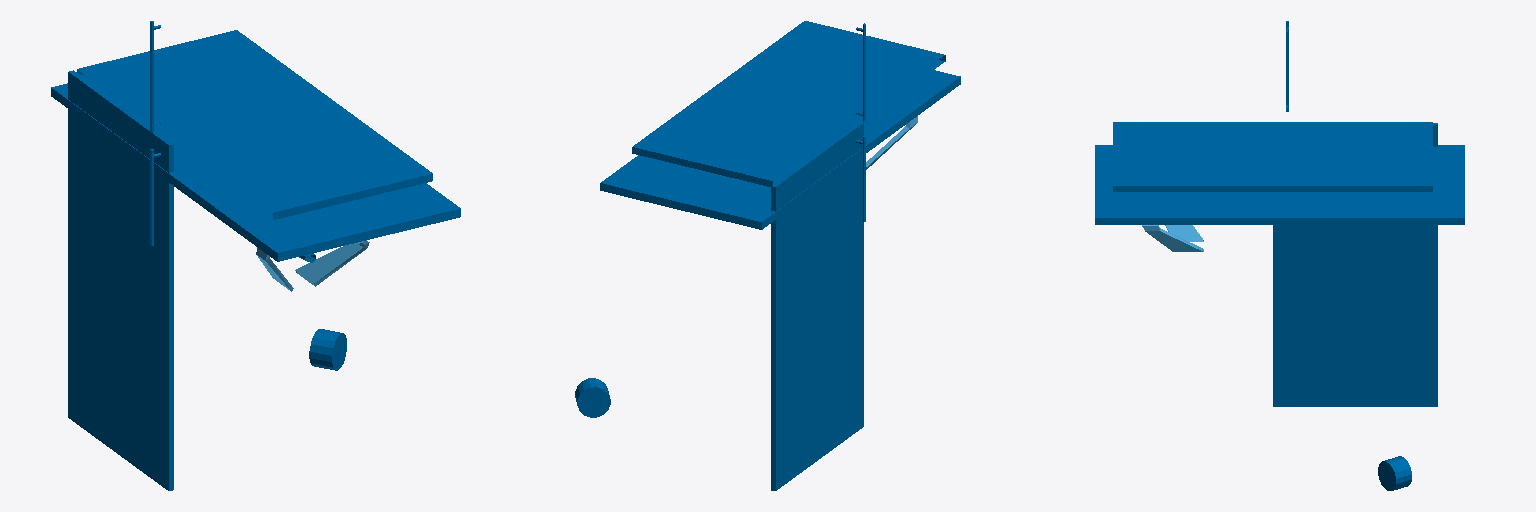
robot.urdf — partnet_49a5c5f524eb73b8391e4d6c585a697a:
<?xml version="1.0" ?>
<robot name="partnet_49a5c5f524eb73b8391e4d6c585a697a">
	<link name="base"/>
	<link name="link_0">
		<visual name="board-15">
			<origin xyz="-0.3058252822582951 -0.18406416344834303 0.2449249999999994"/>
			<geometry>
				<mesh filename="textured_objs/original-18.obj"/>
			</geometry>
		</visual>
		<collision>
			<origin xyz="-0.3058252822582951 -0.18406416344834303 0.2449249999999994"/>
			<geometry>
				<mesh filename="textured_objs/original-18.obj"/>
			</geometry>
		</collision>
	</link>
	<joint name="joint_0" type="revolute">
		<origin xyz="0.3058252822582951 0.18406416344834303 -0.2449249999999994"/>
		<axis xyz="0 0 1"/>
		<child link="link_0"/>
		<parent link="link_3"/>
		<limit lower="0.0" upper="1.5707963267948966"/>
	</joint>
	<link name="link_1">
		<visual name="board-16">
			<origin xyz="0.4127133230581761 -0.16536374127677872 0.2449249999999994"/>
			<geometry>
				<mesh filename="textured_objs/original-19.obj"/>
			</geometry>
		</visual>
		<collision>
			<origin xyz="0.4127133230581761 -0.16536374127677872 0.2449249999999994"/>
			<geometry>
				<mesh filename="textured_objs/original-19.obj"/>
			</geometry>
		</collision>
	</link>
	<joint name="joint_1" type="revolute">
		<origin xyz="-0.4127133230581761 0.16536374127677872 -0.2449249999999994"/>
		<axis xyz="0 0 -1"/>
		<child link="link_1"/>
		<parent link="link_3"/>
		<limit lower="-0.0" upper="1.5707963267948966"/>
	</joint>
	<link name="link_2">
		<visual name="drawer_front-39">
			<origin xyz="0.4127133230581761 -0.16536374127677872 0.2449249999999994"/>
			<geometry>
				<mesh filename="textured_objs/original-3.obj"/>
			</geometry>
		</visual>
		<visual name="drawer_side-40">
			<origin xyz="0.4127133230581761 -0.16536374127677872 0.2449249999999994"/>
			<geometry>
				<mesh filename="textured_objs/original-4.obj"/>
			</geometry>
		</visual>
		<visual name="drawer_side-41">
			<origin xyz="0.4127133230581761 -0.16536374127677872 0.2449249999999994"/>
			<geometry>
				<mesh filename="textured_objs/original-2.obj"/>
			</geometry>
		</visual>
		<visual name="drawer_back-42">
			<origin xyz="0.4127133230581761 -0.16536374127677872 0.2449249999999994"/>
			<geometry>
				<mesh filename="textured_objs/original-5.obj"/>
			</geometry>
		</visual>
		<visual name="drawer_bottom-43">
			<origin xyz="0.4127133230581761 -0.16536374127677872 0.2449249999999994"/>
			<geometry>
				<mesh filename="textured_objs/original-6.obj"/>
			</geometry>
		</visual>
		<visual name="handle-38">
			<origin xyz="0.4127133230581761 -0.16536374127677872 0.2449249999999994"/>
			<geometry>
				<mesh filename="textured_objs/original-10.obj"/>
			</geometry>
		</visual>
		<visual name="handle-38">
			<origin xyz="0.4127133230581761 -0.16536374127677872 0.2449249999999994"/>
			<geometry>
				<mesh filename="textured_objs/original-11.obj"/>
			</geometry>
		</visual>
		<visual name="handle-38">
			<origin xyz="0.4127133230581761 -0.16536374127677872 0.2449249999999994"/>
			<geometry>
				<mesh filename="textured_objs/original-9.obj"/>
			</geometry>
		</visual>
		<visual name="handle-38">
			<origin xyz="0.4127133230581761 -0.16536374127677872 0.2449249999999994"/>
			<geometry>
				<mesh filename="textured_objs/original-8.obj"/>
			</geometry>
		</visual>
		<collision>
			<origin xyz="0.4127133230581761 -0.16536374127677872 0.2449249999999994"/>
			<geometry>
				<mesh filename="textured_objs/original-3.obj"/>
			</geometry>
		</collision>
		<collision>
			<origin xyz="0.4127133230581761 -0.16536374127677872 0.2449249999999994"/>
			<geometry>
				<mesh filename="textured_objs/original-4.obj"/>
			</geometry>
		</collision>
		<collision>
			<origin xyz="0.4127133230581761 -0.16536374127677872 0.2449249999999994"/>
			<geometry>
				<mesh filename="textured_objs/original-2.obj"/>
			</geometry>
		</collision>
		<collision>
			<origin xyz="0.4127133230581761 -0.16536374127677872 0.2449249999999994"/>
			<geometry>
				<mesh filename="textured_objs/original-5.obj"/>
			</geometry>
		</collision>
		<collision>
			<origin xyz="0.4127133230581761 -0.16536374127677872 0.2449249999999994"/>
			<geometry>
				<mesh filename="textured_objs/original-6.obj"/>
			</geometry>
		</collision>
		<collision>
			<origin xyz="0.4127133230581761 -0.16536374127677872 0.2449249999999994"/>
			<geometry>
				<mesh filename="textured_objs/original-10.obj"/>
			</geometry>
		</collision>
		<collision>
			<origin xyz="0.4127133230581761 -0.16536374127677872 0.2449249999999994"/>
			<geometry>
				<mesh filename="textured_objs/original-11.obj"/>
			</geometry>
		</collision>
		<collision>
			<origin xyz="0.4127133230581761 -0.16536374127677872 0.2449249999999994"/>
			<geometry>
				<mesh filename="textured_objs/original-9.obj"/>
			</geometry>
		</collision>
		<collision>
			<origin xyz="0.4127133230581761 -0.16536374127677872 0.2449249999999994"/>
			<geometry>
				<mesh filename="textured_objs/original-8.obj"/>
			</geometry>
		</collision>
	</link>
	<joint name="joint_2" type="prismatic">
		<origin xyz="-0.4127133230581761 0.16536374127677872 -0.2449249999999994"/>
		<axis xyz="0 0 1"/>
		<child link="link_2"/>
		<parent link="link_3"/>
		<limit lower="0" upper="0.5960000000000001"/>
	</joint>
	<link name="link_3">
		<visual name="board-17">
			<origin xyz="0 0 0"/>
			<geometry>
				<mesh filename="textured_objs/original-17.obj"/>
			</geometry>
		</visual>
		<visual name="vertical_side_panel-31">
			<origin xyz="0 0 0"/>
			<geometry>
				<mesh filename="textured_objs/original-48.obj"/>
			</geometry>
		</visual>
		<visual name="vertical_side_panel-32">
			<origin xyz="0 0 0"/>
			<geometry>
				<mesh filename="textured_objs/original-49.obj"/>
			</geometry>
		</visual>
		<visual name="leg-33">
			<origin xyz="0 0 0"/>
			<geometry>
				<mesh filename="textured_objs/original-40.obj"/>
			</geometry>
		</visual>
		<visual name="leg-34">
			<origin xyz="0 0 0"/>
			<geometry>
				<mesh filename="textured_objs/original-41.obj"/>
			</geometry>
		</visual>
		<visual name="leg-35">
			<origin xyz="0 0 0"/>
			<geometry>
				<mesh filename="textured_objs/original-46.obj"/>
			</geometry>
		</visual>
		<visual name="leg-36">
			<origin xyz="0 0 0"/>
			<geometry>
				<mesh filename="textured_objs/original-47.obj"/>
			</geometry>
		</visual>
		<visual name="vertical_front_panel-44">
			<origin xyz="0 0 0"/>
			<geometry>
				<mesh filename="textured_objs/original-51.obj"/>
			</geometry>
		</visual>
		<visual name="back_panel-45">
			<origin xyz="0 0 0"/>
			<geometry>
				<mesh filename="textured_objs/original-50.obj"/>
			</geometry>
		</visual>
		<visual name="other_leaf-27">
			<origin xyz="0 0 0"/>
			<geometry>
				<mesh filename="textured_objs/original-34.obj"/>
			</geometry>
		</visual>
		<visual name="other_leaf-27">
			<origin xyz="0 0 0"/>
			<geometry>
				<mesh filename="textured_objs/original-32.obj"/>
			</geometry>
		</visual>
		<visual name="other_leaf-28">
			<origin xyz="0 0 0"/>
			<geometry>
				<mesh filename="textured_objs/original-38.obj"/>
			</geometry>
		</visual>
		<visual name="other_leaf-28">
			<origin xyz="0 0 0"/>
			<geometry>
				<mesh filename="textured_objs/original-36.obj"/>
			</geometry>
		</visual>
		<visual name="other_leaf-52">
			<origin xyz="0 0 0"/>
			<geometry>
				<mesh filename="textured_objs/original-43.obj"/>
			</geometry>
		</visual>
		<visual name="other_leaf-53">
			<origin xyz="0 0 0"/>
			<geometry>
				<mesh filename="textured_objs/original-42.obj"/>
			</geometry>
		</visual>
		<visual name="other_leaf-54">
			<origin xyz="0 0 0"/>
			<geometry>
				<mesh filename="textured_objs/original-45.obj"/>
			</geometry>
		</visual>
		<visual name="other_leaf-55">
			<origin xyz="0 0 0"/>
			<geometry>
				<mesh filename="textured_objs/original-44.obj"/>
			</geometry>
		</visual>
		<visual name="other_leaf-47">
			<origin xyz="0 0 0"/>
			<geometry>
				<mesh filename="textured_objs/original-30.obj"/>
			</geometry>
		</visual>
		<visual name="other_leaf-47">
			<origin xyz="0 0 0"/>
			<geometry>
				<mesh filename="textured_objs/original-29.obj"/>
			</geometry>
		</visual>
		<visual name="other_leaf-48">
			<origin xyz="0 0 0"/>
			<geometry>
				<mesh filename="textured_objs/original-26.obj"/>
			</geometry>
		</visual>
		<visual name="other_leaf-48">
			<origin xyz="0 0 0"/>
			<geometry>
				<mesh filename="textured_objs/original-25.obj"/>
			</geometry>
		</visual>
		<visual name="other_leaf-49">
			<origin xyz="0 0 0"/>
			<geometry>
				<mesh filename="textured_objs/original-22.obj"/>
			</geometry>
		</visual>
		<visual name="other_leaf-49">
			<origin xyz="0 0 0"/>
			<geometry>
				<mesh filename="textured_objs/original-21.obj"/>
			</geometry>
		</visual>
		<visual name="other_leaf-50">
			<origin xyz="0 0 0"/>
			<geometry>
				<mesh filename="textured_objs/original-14.obj"/>
			</geometry>
		</visual>
		<visual name="other_leaf-50">
			<origin xyz="0 0 0"/>
			<geometry>
				<mesh filename="textured_objs/original-15.obj"/>
			</geometry>
		</visual>
		<collision>
			<origin xyz="0 0 0"/>
			<geometry>
				<mesh filename="textured_objs/original-17.obj"/>
			</geometry>
		</collision>
		<collision>
			<origin xyz="0 0 0"/>
			<geometry>
				<mesh filename="textured_objs/original-48.obj"/>
			</geometry>
		</collision>
		<collision>
			<origin xyz="0 0 0"/>
			<geometry>
				<mesh filename="textured_objs/original-49.obj"/>
			</geometry>
		</collision>
		<collision>
			<origin xyz="0 0 0"/>
			<geometry>
				<mesh filename="textured_objs/original-40.obj"/>
			</geometry>
		</collision>
		<collision>
			<origin xyz="0 0 0"/>
			<geometry>
				<mesh filename="textured_objs/original-41.obj"/>
			</geometry>
		</collision>
		<collision>
			<origin xyz="0 0 0"/>
			<geometry>
				<mesh filename="textured_objs/original-46.obj"/>
			</geometry>
		</collision>
		<collision>
			<origin xyz="0 0 0"/>
			<geometry>
				<mesh filename="textured_objs/original-47.obj"/>
			</geometry>
		</collision>
		<collision>
			<origin xyz="0 0 0"/>
			<geometry>
				<mesh filename="textured_objs/original-51.obj"/>
			</geometry>
		</collision>
		<collision>
			<origin xyz="0 0 0"/>
			<geometry>
				<mesh filename="textured_objs/original-50.obj"/>
			</geometry>
		</collision>
		<collision>
			<origin xyz="0 0 0"/>
			<geometry>
				<mesh filename="textured_objs/original-34.obj"/>
			</geometry>
		</collision>
		<collision>
			<origin xyz="0 0 0"/>
			<geometry>
				<mesh filename="textured_objs/original-32.obj"/>
			</geometry>
		</collision>
		<collision>
			<origin xyz="0 0 0"/>
			<geometry>
				<mesh filename="textured_objs/original-38.obj"/>
			</geometry>
		</collision>
		<collision>
			<origin xyz="0 0 0"/>
			<geometry>
				<mesh filename="textured_objs/original-36.obj"/>
			</geometry>
		</collision>
		<collision>
			<origin xyz="0 0 0"/>
			<geometry>
				<mesh filename="textured_objs/original-43.obj"/>
			</geometry>
		</collision>
		<collision>
			<origin xyz="0 0 0"/>
			<geometry>
				<mesh filename="textured_objs/original-42.obj"/>
			</geometry>
		</collision>
		<collision>
			<origin xyz="0 0 0"/>
			<geometry>
				<mesh filename="textured_objs/original-45.obj"/>
			</geometry>
		</collision>
		<collision>
			<origin xyz="0 0 0"/>
			<geometry>
				<mesh filename="textured_objs/original-44.obj"/>
			</geometry>
		</collision>
		<collision>
			<origin xyz="0 0 0"/>
			<geometry>
				<mesh filename="textured_objs/original-30.obj"/>
			</geometry>
		</collision>
		<collision>
			<origin xyz="0 0 0"/>
			<geometry>
				<mesh filename="textured_objs/original-29.obj"/>
			</geometry>
		</collision>
		<collision>
			<origin xyz="0 0 0"/>
			<geometry>
				<mesh filename="textured_objs/original-26.obj"/>
			</geometry>
		</collision>
		<collision>
			<origin xyz="0 0 0"/>
			<geometry>
				<mesh filename="textured_objs/original-25.obj"/>
			</geometry>
		</collision>
		<collision>
			<origin xyz="0 0 0"/>
			<geometry>
				<mesh filename="textured_objs/original-22.obj"/>
			</geometry>
		</collision>
		<collision>
			<origin xyz="0 0 0"/>
			<geometry>
				<mesh filename="textured_objs/original-21.obj"/>
			</geometry>
		</collision>
		<collision>
			<origin xyz="0 0 0"/>
			<geometry>
				<mesh filename="textured_objs/original-14.obj"/>
			</geometry>
		</collision>
		<collision>
			<origin xyz="0 0 0"/>
			<geometry>
				<mesh filename="textured_objs/original-15.obj"/>
			</geometry>
		</collision>
	</link>
	<joint name="joint_3" type="fixed">
		<origin rpy="1.570796326794897 0 -1.570796326794897" xyz="0 0 0"/>
		<child link="link_3"/>
		<parent link="base"/>
	</joint>
</robot>

--- Facts derived from the render (not from the file) ---
3 views of the same robot in one strip: view 1: azimuth 30°, elevation 25°; view 2: azimuth 150°, elevation 25°; view 3: azimuth 270°, elevation 25° (orthographic).
Robot: partnet_49a5c5f524eb73b8391e4d6c585a697a — 5 links, 4 joints (2 revolute, 1 prismatic, 1 fixed); root link base; default pose: all joints at 0.
Visible links, largest first — view 1: link_3, link_0; view 2: link_3; view 3: link_3, link_0.
Link boxes in pixels (x1,y1,x2,y2): link_3: (51, 21, 460, 490); link_0: (256, 240, 369, 291); link_3: (575, 21, 960, 490); link_3: (1095, 21, 1464, 490); link_0: (1142, 225, 1203, 251).
Size in the robot's own frame: 0.7376 by 1.1 by 1.25 metres.
Meshes: 36 distinct files referenced, 11 mesh visuals loaded (11 OBJ); not drawn: 25 (reference not matched to a file when rendering).